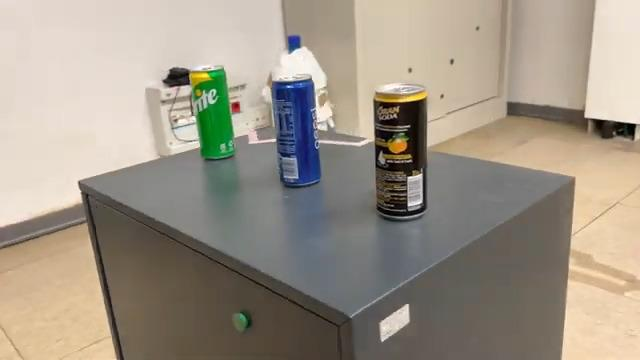Pepsi: (370, 80, 430, 226), (266, 72, 326, 192)
Sprite: (186, 59, 238, 163)
